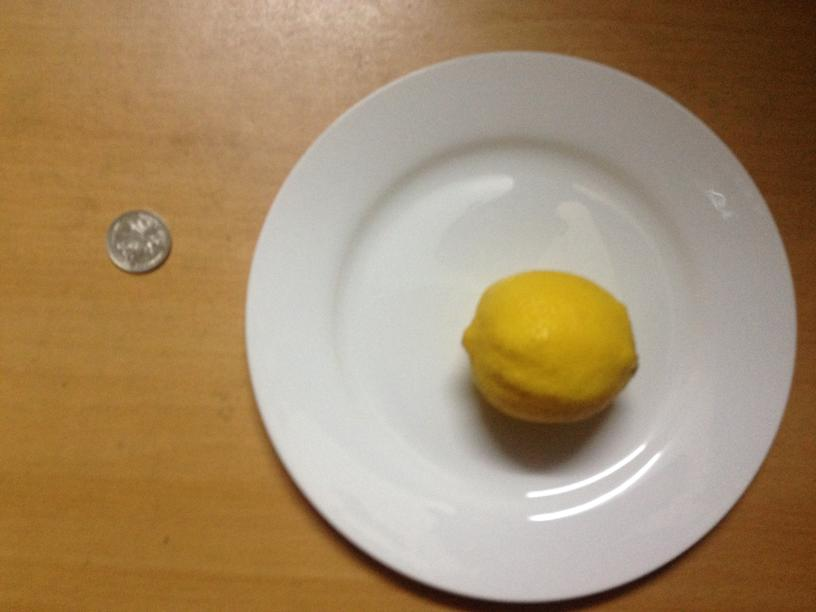coin: (106, 212, 171, 275)
lemon: (467, 269, 636, 426)
